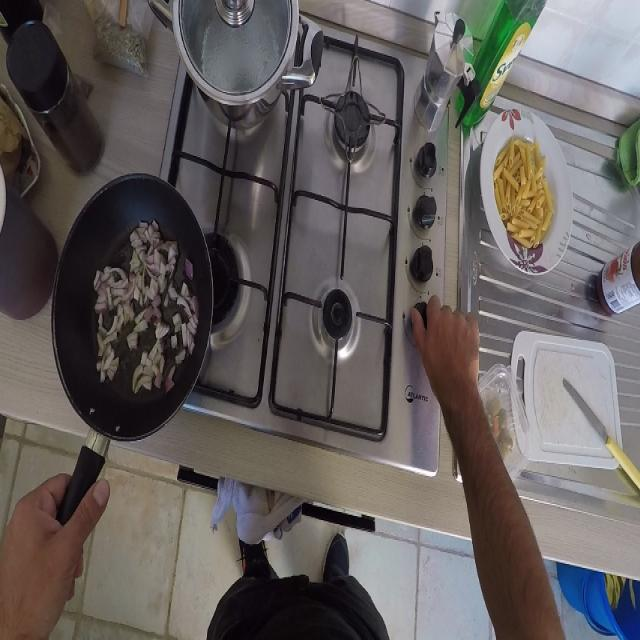hob: (280, 182, 397, 453)
knife: (558, 366, 640, 495)
left hand: (3, 438, 110, 630)
pan: (36, 172, 211, 525)
plate: (478, 100, 575, 276)
pot: (145, 0, 324, 130)
right hand: (404, 284, 486, 426)
